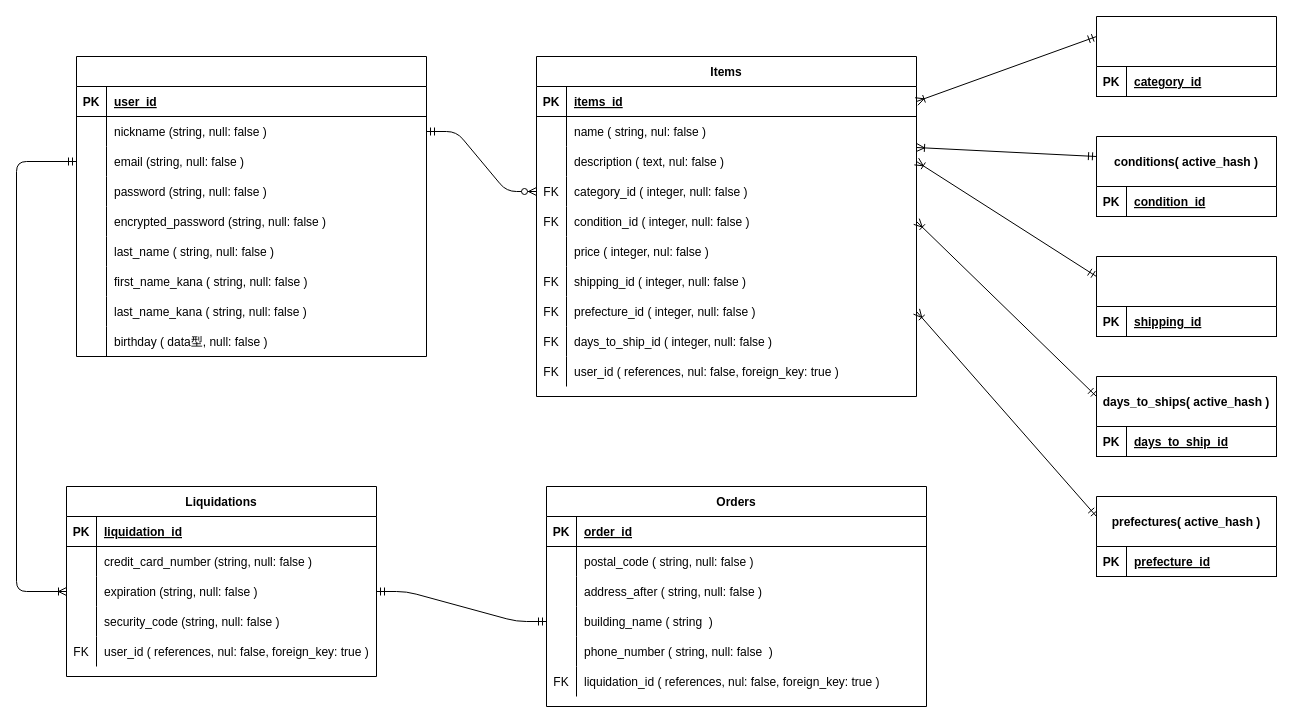
The diagram is 1293 pixels wide and 723 high, and some of its shapes have lost their labels. The shapes that lost their labels are listed below. From the top down, each one's box as (x1, y1, x2, y2) in pixels, then its label:
(1096, 16, 1276, 96): categorys( active_hash )
(76, 56, 426, 356): Users
(1096, 256, 1276, 336): shippings( active_hash )
